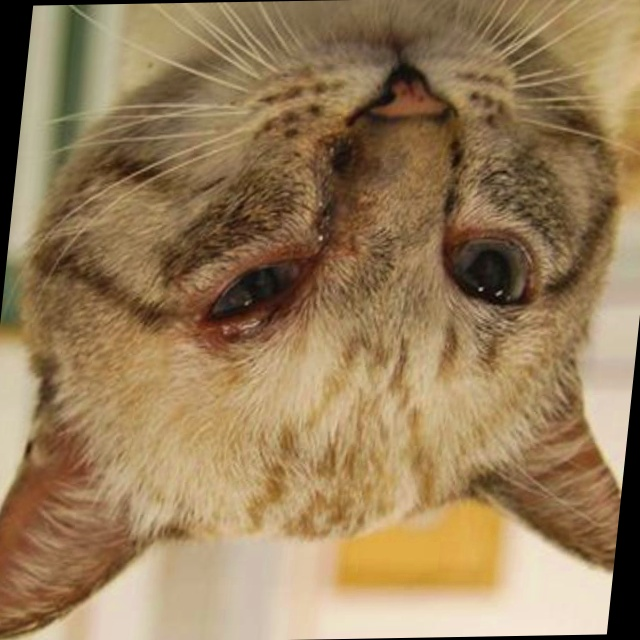eye_infection: (431, 226, 548, 318), (198, 248, 317, 334)
